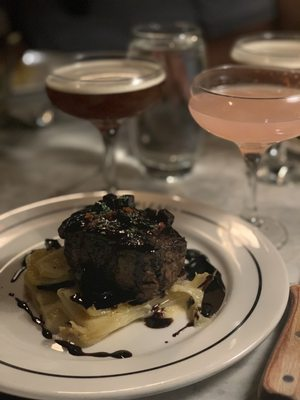pizza: (125, 19, 209, 175)
